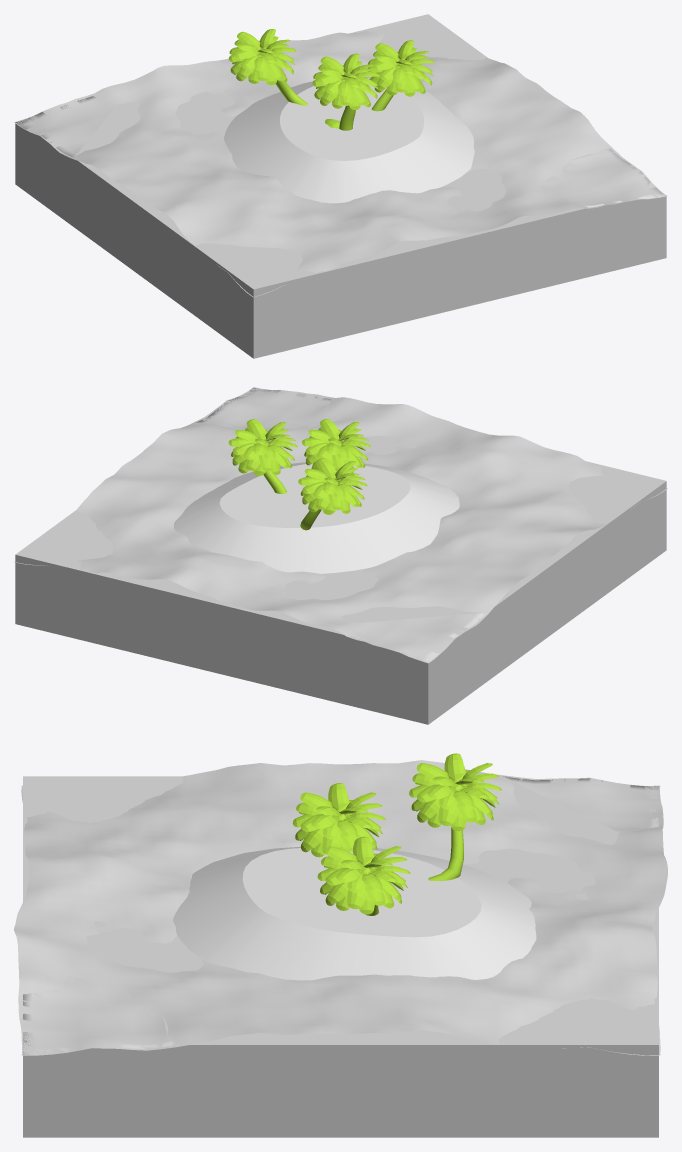
The model's file is isla.fbx.
The picture shows the model from 3 angles, top to bottom: view 1: azimuth 30°, elevation 25°; view 2: azimuth 150°, elevation 25°; view 3: azimuth 270°, elevation 25°; orthographic projection. The views are drawn at different scales.
Visible parts, largest first — view 1: Cube, Plane, BezierCurve, Palmera; view 2: Cube, Plane, BezierCurve, Palmera; view 3: Plane, Cube, BezierCurve, Palmera.
Part boxes in pixels (<box>): Cube: <box>15,14,666,358</box>; Plane: <box>14,30,667,297</box>; BezierCurve: <box>224,77,474,203</box>; Palmera: <box>228,29,434,130</box>; Cube: <box>15,388,666,724</box>; Plane: <box>14,387,667,663</box>; BezierCurve: <box>174,462,459,573</box>; Palmera: <box>228,419,370,530</box>; Plane: <box>14,760,667,1055</box>; Cube: <box>23,776,658,1137</box>; BezierCurve: <box>173,846,536,980</box>; Palmera: <box>292,753,501,915</box>.
Bounding box in the file's own units: 2022 × 733 × 2049.
